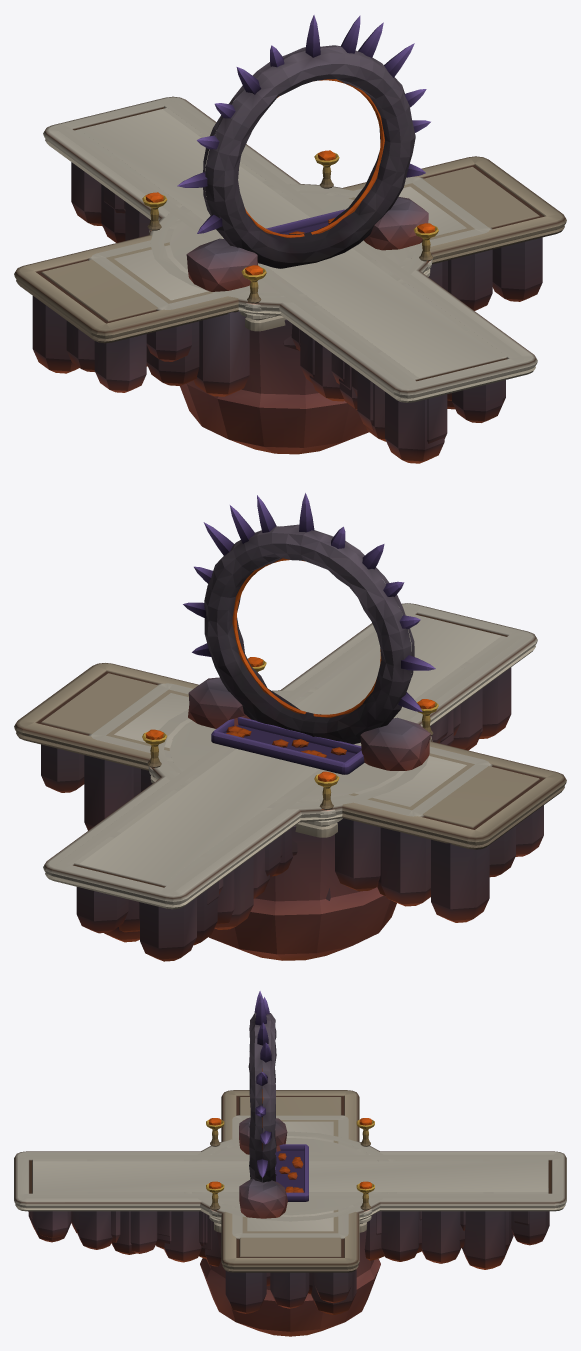
The model's file is volcano-4-Cs_4Hjc-.glb.
3 views of the same model, one above another, from view 1: azimuth 30°, elevation 25°; view 2: azimuth 150°, elevation 25°; view 3: azimuth 270°, elevation 25° (orthographic). The views are drawn at different scales.
Visible parts, largest first — view 1: block_8x2x40#0, block_30x2x10_column#1, portal_#0, block_9x2x40_grate#1, disc_16x1.5#1, block_21.5x2x9#0, pad_12x2x12#1, block_8x2x40_grate#1, burner_8x1.2x2#0; view 2: block_30x2x10_column#1, block_8x2x40#0, portal_#0, block_9x2x40_grate#1, disc_16x1.5#1, block_21.5x2x9#0, burner_8x1.2x2#0, block_8x2x40_grate#1, pad_12x2x12#1; view 3: block_8x2x40#0, block_9x2x40_grate#1, block_30x2x10_column#1, disc_16x1.5#1, portal_#0, block_21.5x2x9#0, block_8x2x40_grate#1, pad_12x2x12#1, burner_8x1.2x2#0, block_8x2x30_grate#0.
Boxes of the visible parts, bbox=[...] form: block_8x2x40#0: bbox=[56, 99, 524, 443]; block_30x2x10_column#1: bbox=[14, 156, 566, 396]; portal_#0: bbox=[177, 15, 430, 291]; block_9x2x40_grate#1: bbox=[43, 96, 537, 463]; disc_16x1.5#1: bbox=[148, 184, 433, 454]; block_21.5x2x9#0: bbox=[87, 177, 492, 385]; pad_12x2x12#1: bbox=[142, 150, 438, 331]; block_8x2x40_grate#1: bbox=[125, 202, 520, 441]; burner_8x1.2x2#0: bbox=[224, 209, 345, 239]; block_30x2x10_column#1: bbox=[14, 663, 566, 922]; block_8x2x40#0: bbox=[56, 606, 524, 945]; portal_#0: bbox=[183, 493, 435, 770]; block_9x2x40_grate#1: bbox=[43, 603, 537, 961]; disc_16x1.5#1: bbox=[147, 690, 432, 960]; block_21.5x2x9#0: bbox=[88, 683, 493, 896]; burner_8x1.2x2#0: bbox=[211, 717, 364, 774]; block_8x2x40_grate#1: bbox=[61, 688, 482, 933]; pad_12x2x12#1: bbox=[142, 657, 438, 900]; block_8x2x40#0: bbox=[14, 1155, 566, 1260]; block_9x2x40_grate#1: bbox=[14, 1151, 566, 1269]; block_30x2x10_column#1: bbox=[221, 1090, 359, 1314]; disc_16x1.5#1: bbox=[191, 1131, 389, 1336]; portal_#0: bbox=[239, 991, 287, 1218]; block_21.5x2x9#0: bbox=[232, 1115, 348, 1294]; block_8x2x40_grate#1: bbox=[32, 1211, 549, 1258]; pad_12x2x12#1: bbox=[206, 1118, 374, 1232]; burner_8x1.2x2#0: bbox=[275, 1144, 308, 1201]; block_8x2x30_grate#0: bbox=[87, 1159, 493, 1245].
Bounding box in the file's own units: 30 × 26.44 × 40.
